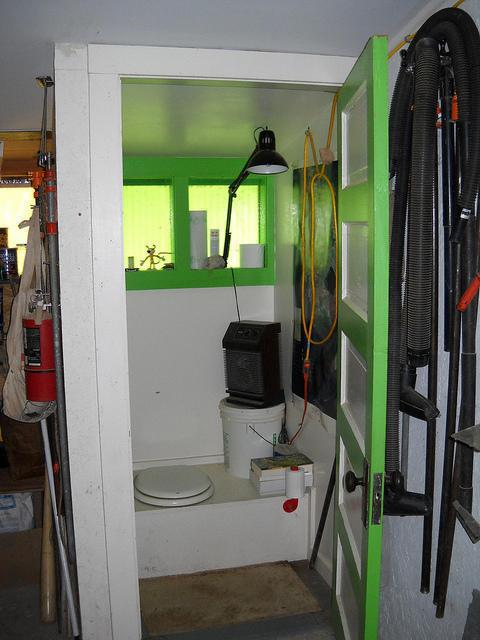Sanitario: (131, 456, 216, 511)
